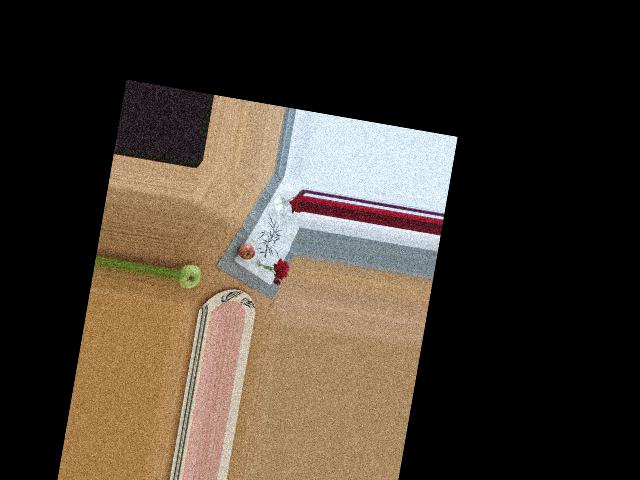apple: (175, 261, 203, 292)
